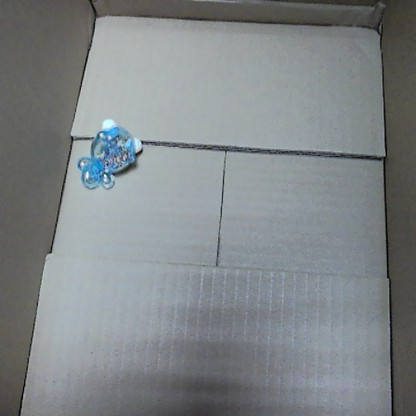bluefish: (76, 116, 142, 189)
